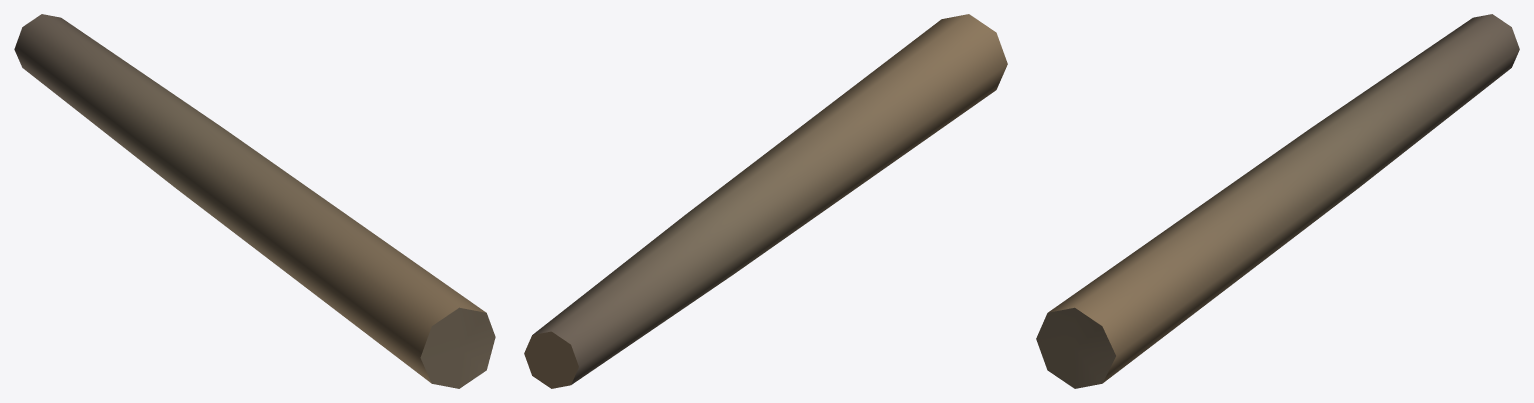
3 views of the same model, side by side, from view 1: azimuth 30°, elevation 25°; view 2: azimuth 150°, elevation 25°; view 3: azimuth 330°, elevation 25° (orthographic).
Parts seen in each view (by area): view 1: base.446; view 2: base.446; view 3: base.446.
Boxes of the visible parts, x1,y1,x2,y2 form: base.446: (14,14,495,388); base.446: (524,14,1007,388); base.446: (1036,14,1519,388).
Size of the model in its own units: 0.0537 by 0.0537 by 0.5.
